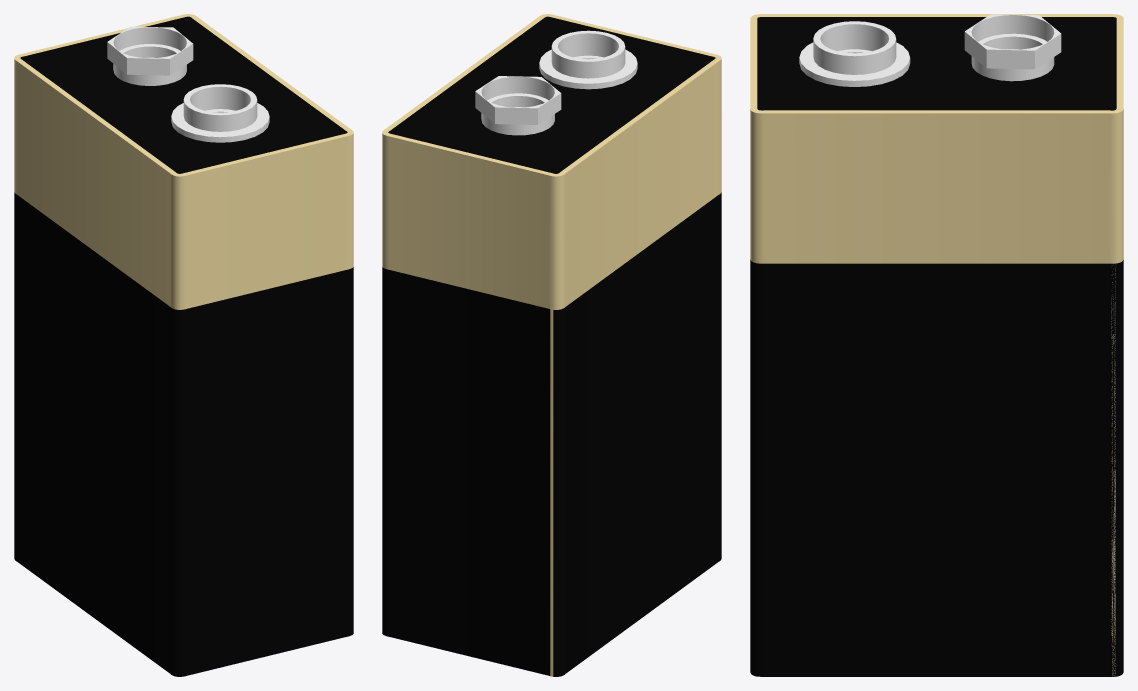
Rendered from speedPowerPack.fbx.
The picture shows the model from 3 angles, left to right: view 1: azimuth 30°, elevation 25°; view 2: azimuth 150°, elevation 25°; view 3: azimuth 270°, elevation 25°; orthographic projection. The views are drawn at different scales.
Parts seen in each view (by area): view 1: polySurface202; view 2: polySurface202; view 3: polySurface202.
Boxes of the visible parts, <box> form: polySurface202: <box>14,14,353,676</box>; polySurface202: <box>382,14,721,676</box>; polySurface202: <box>750,14,1123,676</box>.
Size of the model in its own units: 5.07 by 14.14 by 8.05.
5 materials, 4 textured.
